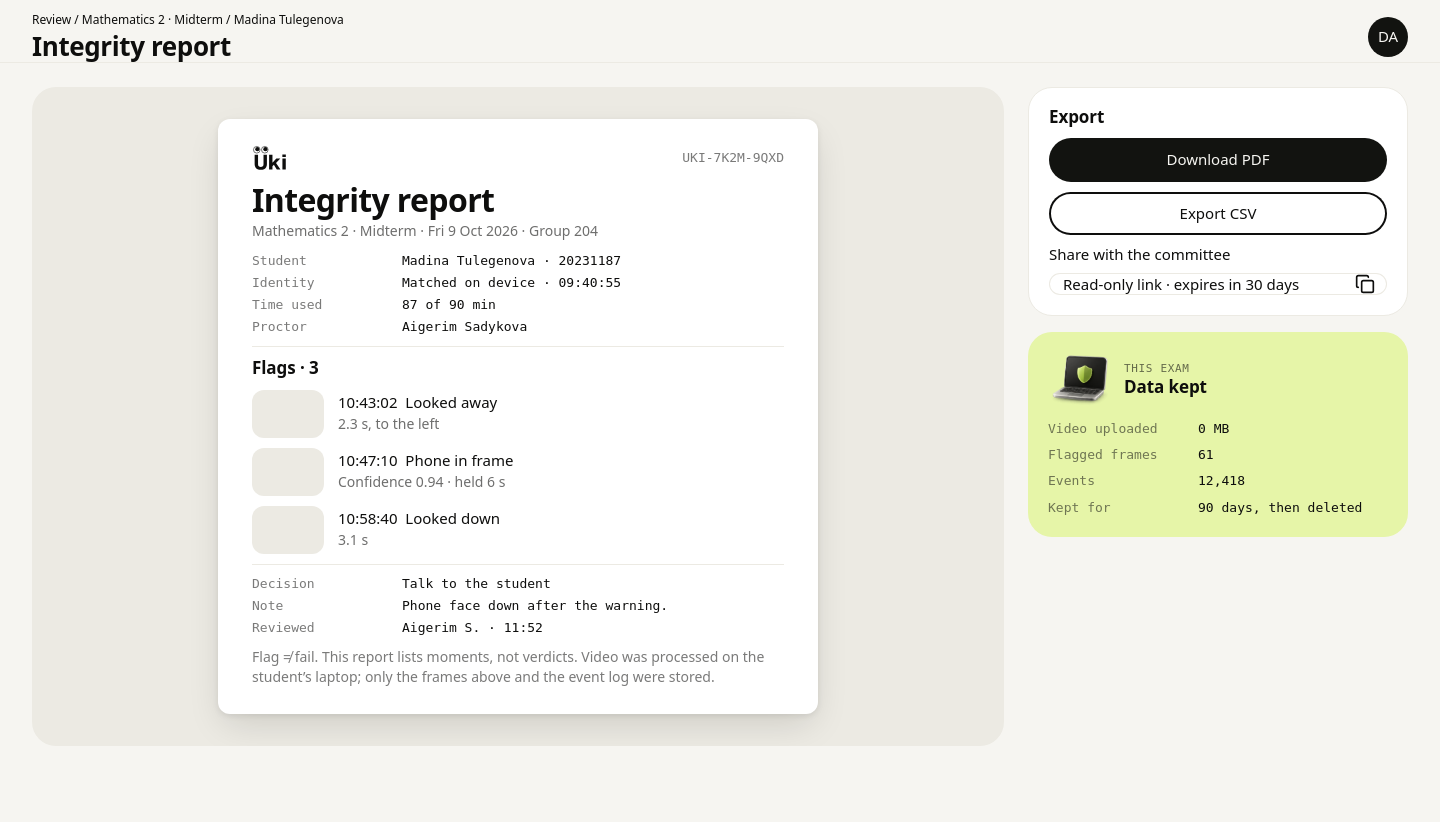
Test: 3.4 Integrity report › says when the link could not be made
Click the button named "Share with the committee" at (1204, 284), box [1063,273,1345,295]
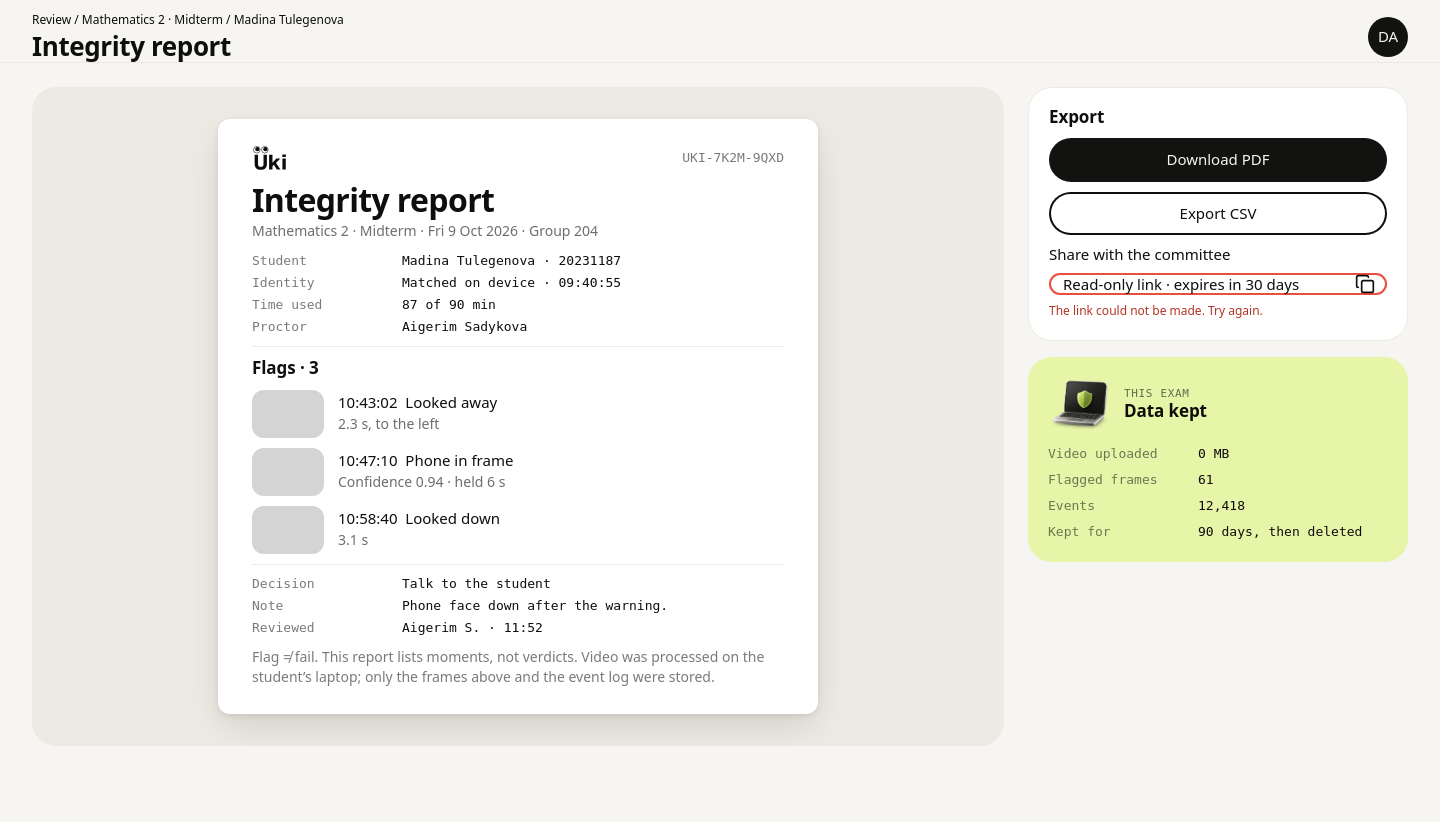
Expected: the text "The link could not be made. Try again." is shown, [1049,303,1263,320]
